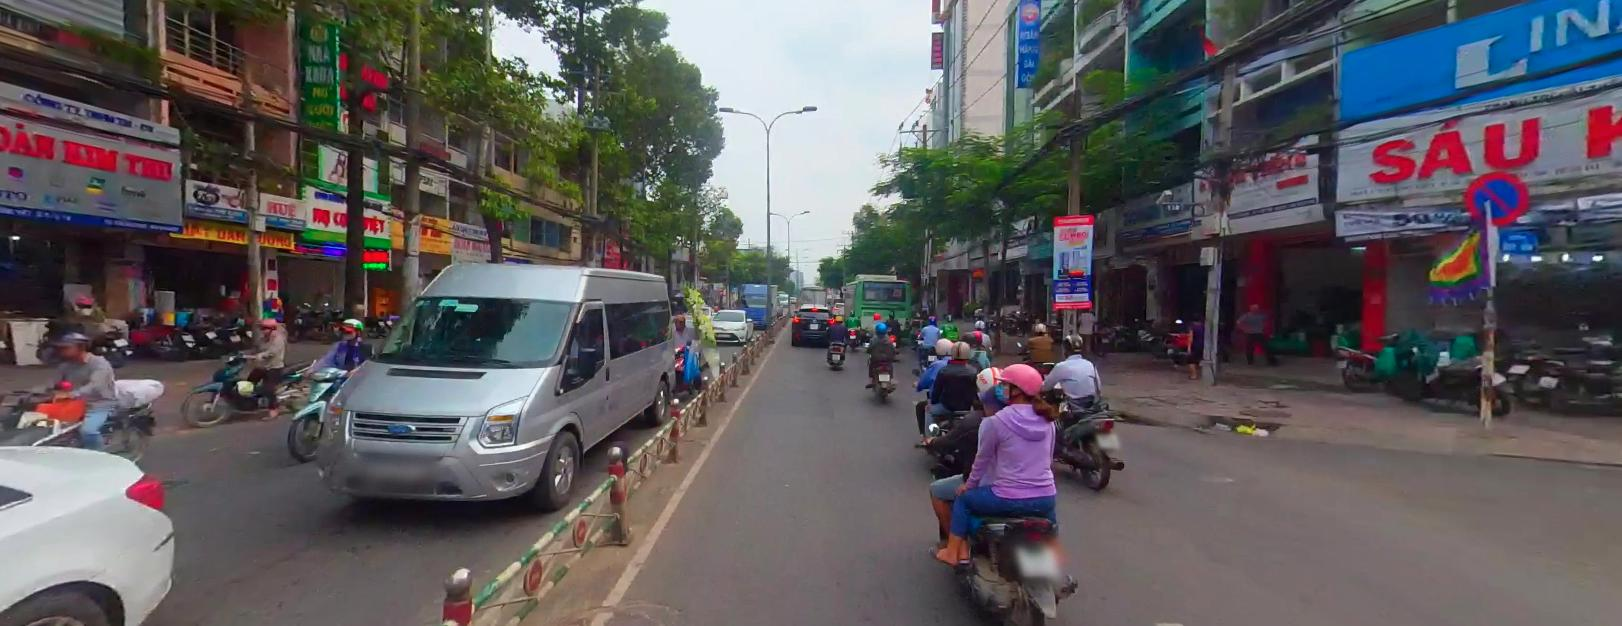Cam dung va do: (1460, 167, 1527, 233)
